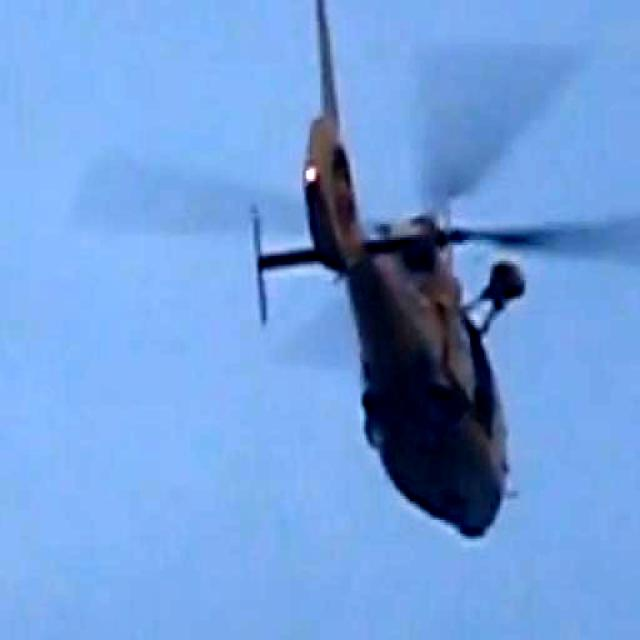drone: (231, 0, 565, 551)
